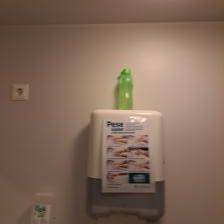bottle: (113, 65, 135, 112)
